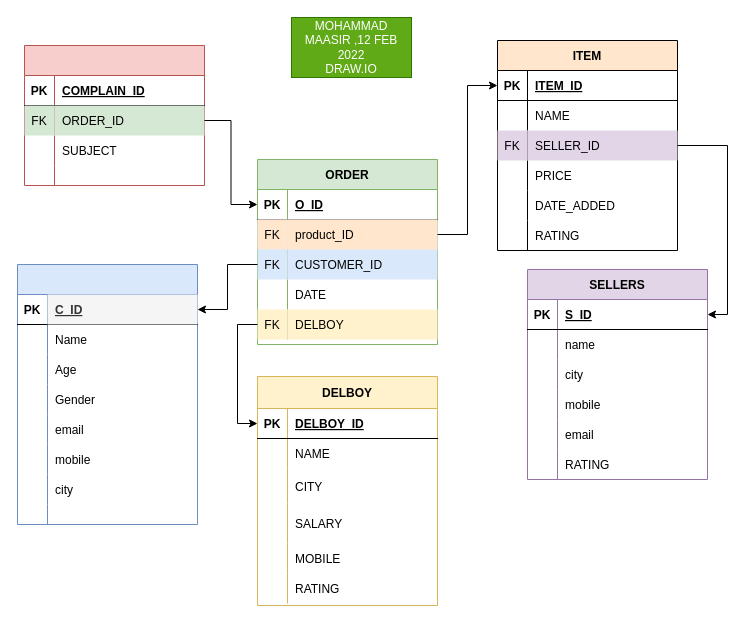
Some shapes in this 753 by 623 pixel diagram are drawn without their labels. The shapes that lost their labels are listed below. From the top down, each one's box as (x1, y1, x2, y2) in pixels, then its label:
(24, 44, 204, 186): COMPLAINS
(16, 264, 198, 524): CUSTOMER
